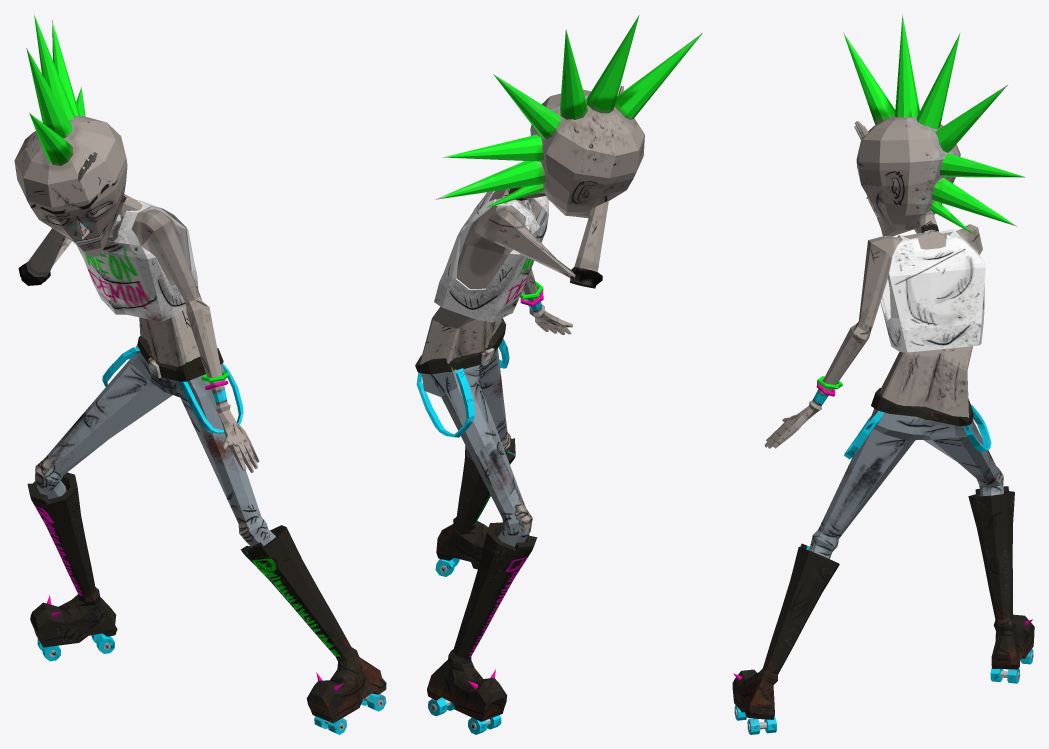
The model's file is punkAnimation_000006.obj.
3 renders of one model, left to right at view 1: azimuth 30°, elevation 25°; view 2: azimuth 150°, elevation 25°; view 3: azimuth 270°, elevation 25°, orthographic. The views are drawn at different scales.
Parts seen in each view (by area): view 1: Cube.004_Cube.003; view 2: Cube.004_Cube.003; view 3: Cube.004_Cube.003.
Boxes of the visible parts, <box> form: Cube.004_Cube.003: <box>14,15,386,734</box>; Cube.004_Cube.003: <box>415,15,702,734</box>; Cube.004_Cube.003: <box>732,14,1034,734</box>.
Size of the model in its own units: 3.18 by 6.71 by 3.01.
